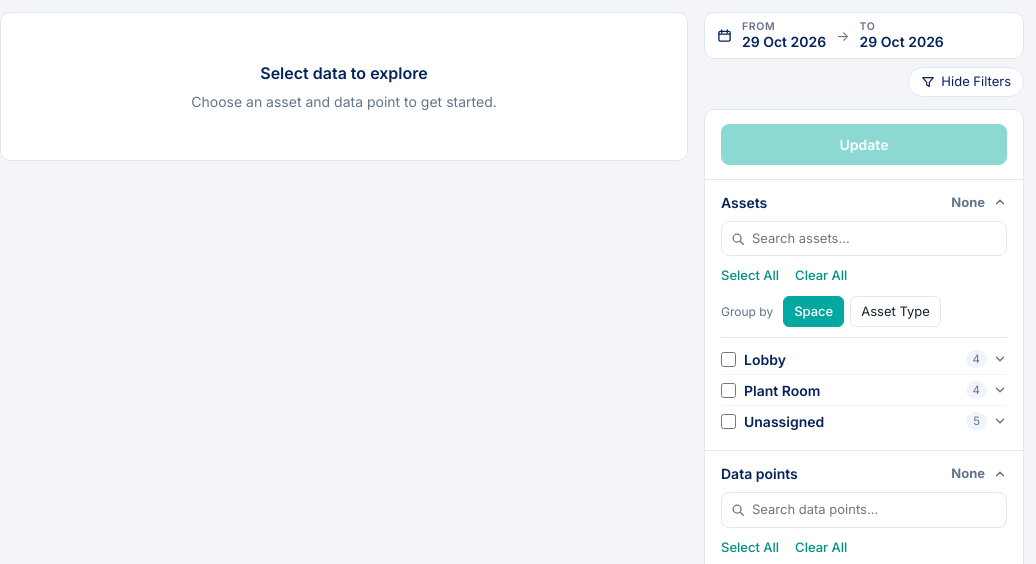
Test: Analytics filter panel (F4) › Assets: group selection fills in visual order up to 10, then the limit message and locked checkboxes (D44, D65)
Click the checkbox named "Select group Unassigned" at (728, 421), box [721,414,736,429]
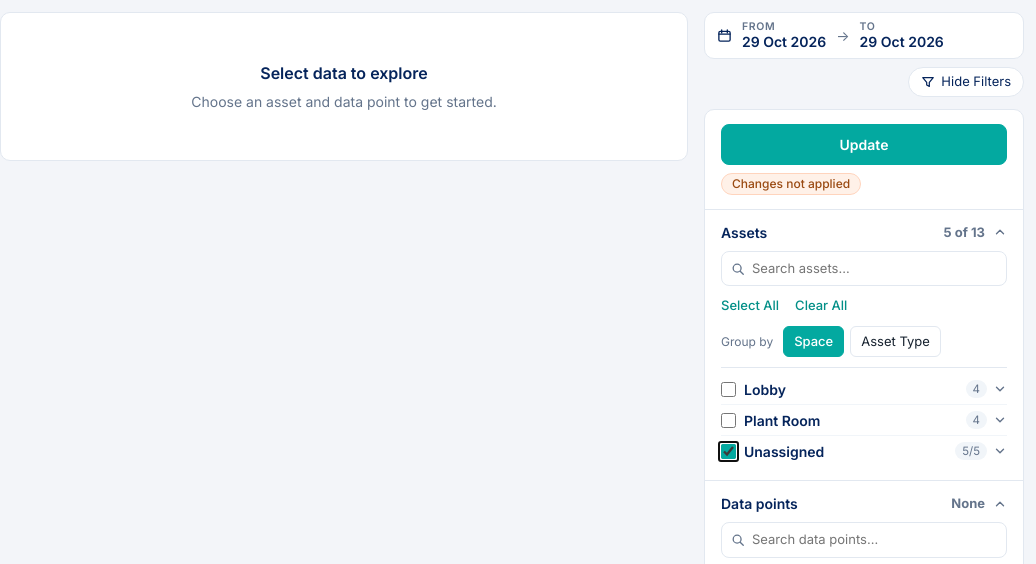
Click the checkbox named "Select group Plant Room" at (728, 420), box [721,413,736,428]
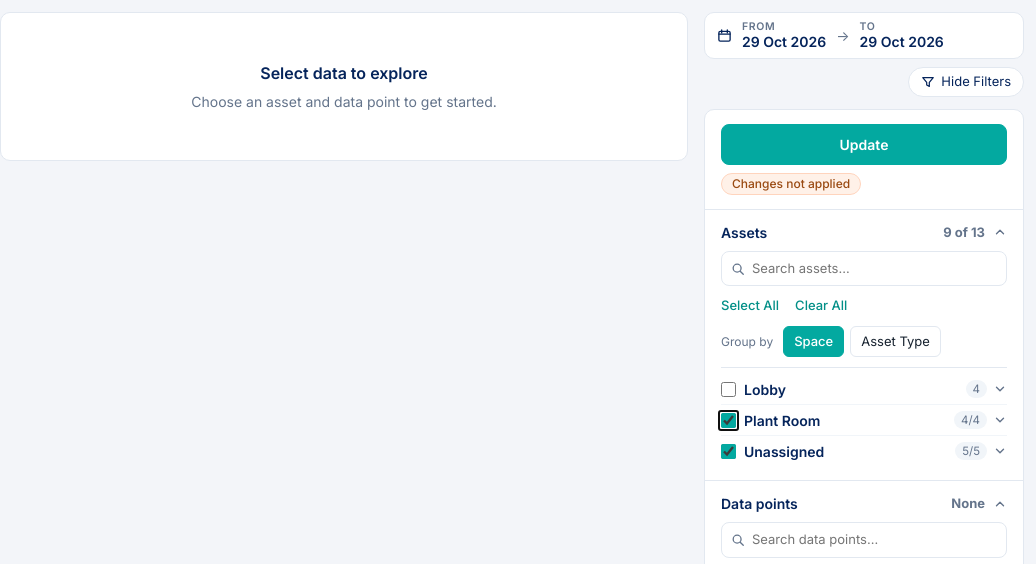
Now the text with test id "asset-selected-count" reads "9 of 13", box [943,224,985,240]
Click the checkbox named "Select group Lobby" at (728, 389), box [721,382,736,397]
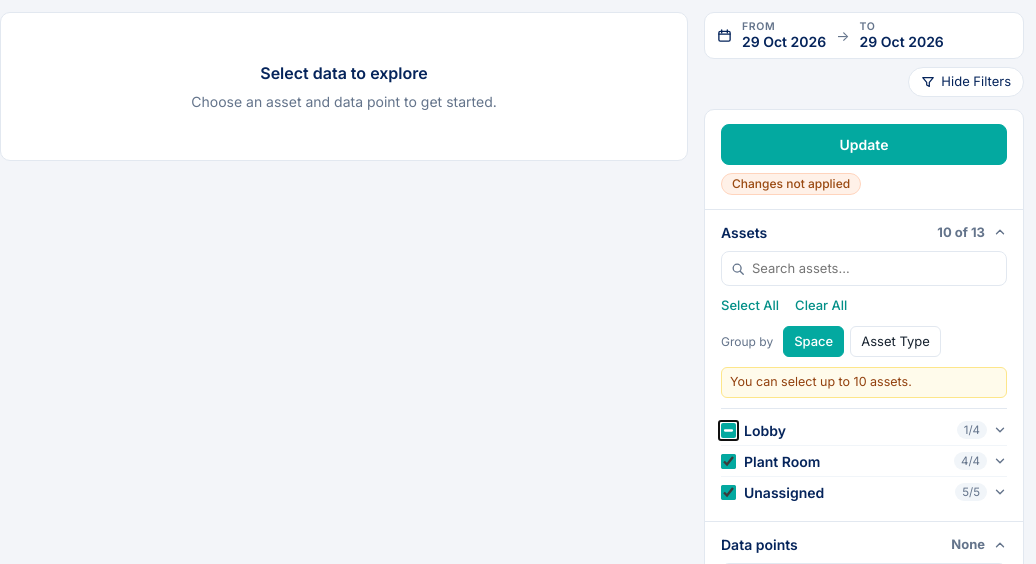
Now the text with test id "asset-selected-count" reads "10 of 13", box [937,224,985,240]
Now the message with test id "asset-limit-reached" reads "You can select up to 10 assets.", box [730,374,912,389]
Click the button "Lobby 1/4" at (765, 430), box [744,416,1007,445]
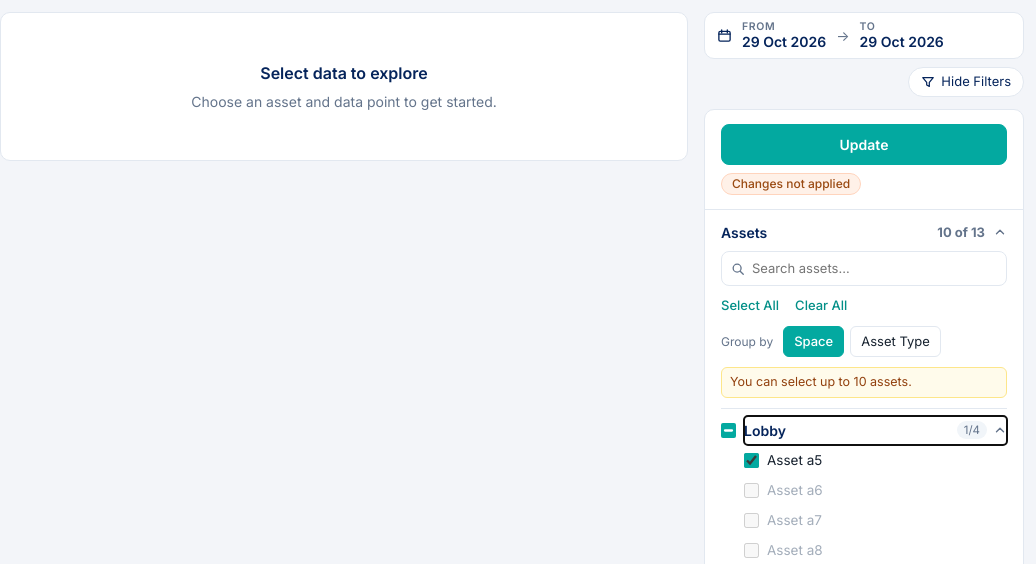
Now the checkbox labelled "Asset a5" is checked, box [744,453,759,468]
Now the checkbox labelled "Asset a6" is disabled, box [744,483,759,498]
Click the 1st button "Clear All" at (821, 306), box [795,296,847,316]
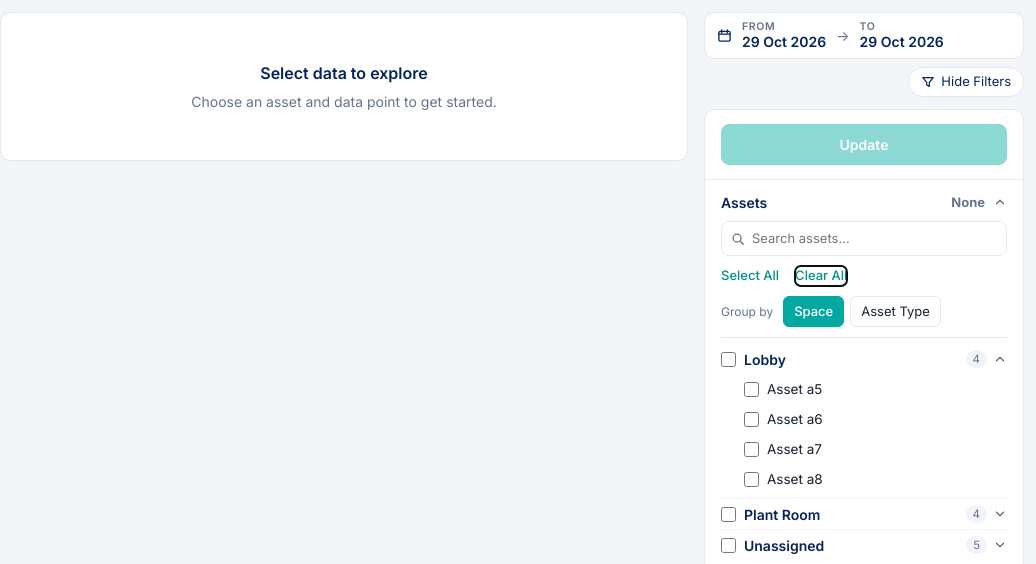
Now the text with test id "asset-selected-count" reads "None", box [951,194,985,210]
